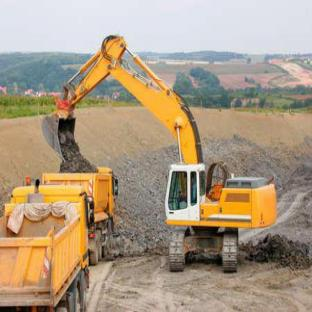ExcavationMachinery: (35, 31, 292, 293)
Vehicle: (12, 178, 100, 312)
